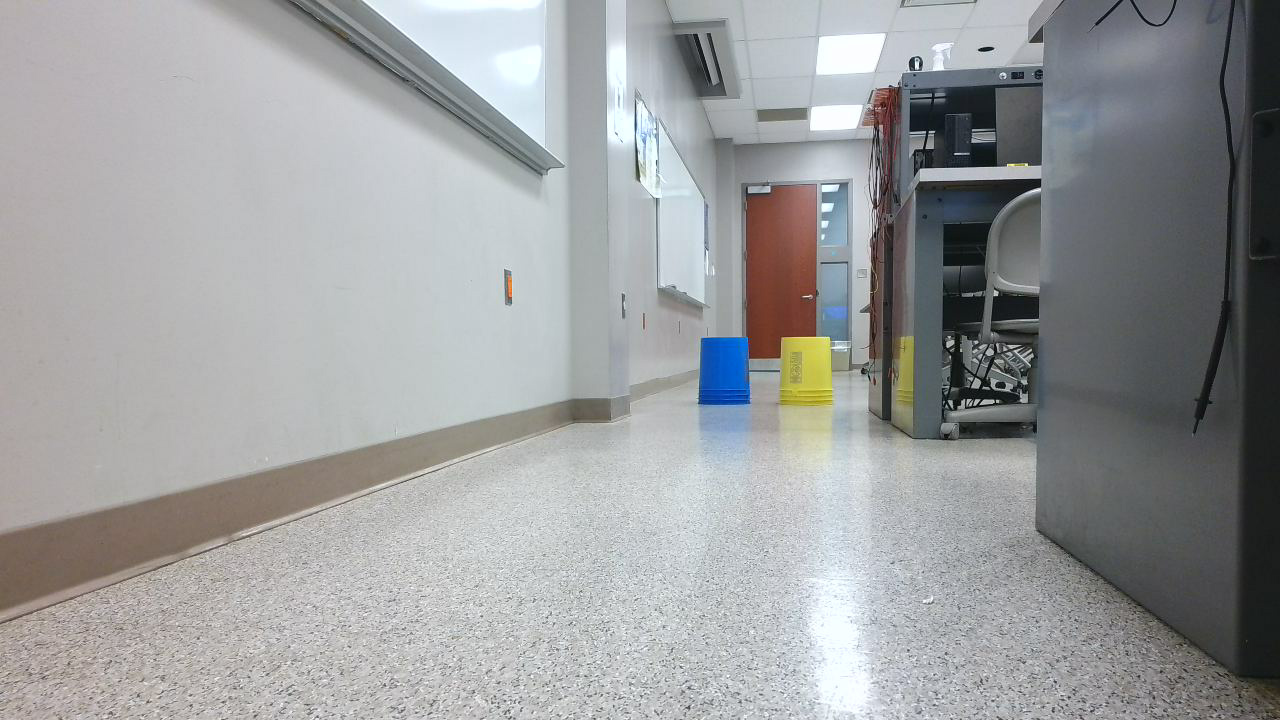blue_bucket: (699, 339, 760, 414)
yellow_bucket: (778, 337, 844, 416)
